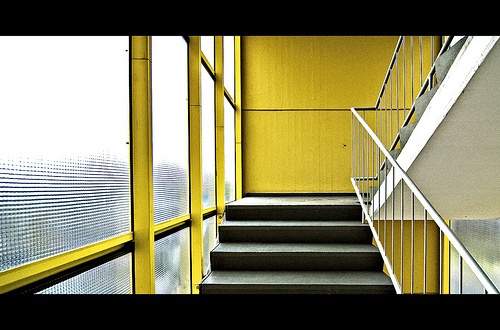stairs_up: (202, 201, 397, 291)
